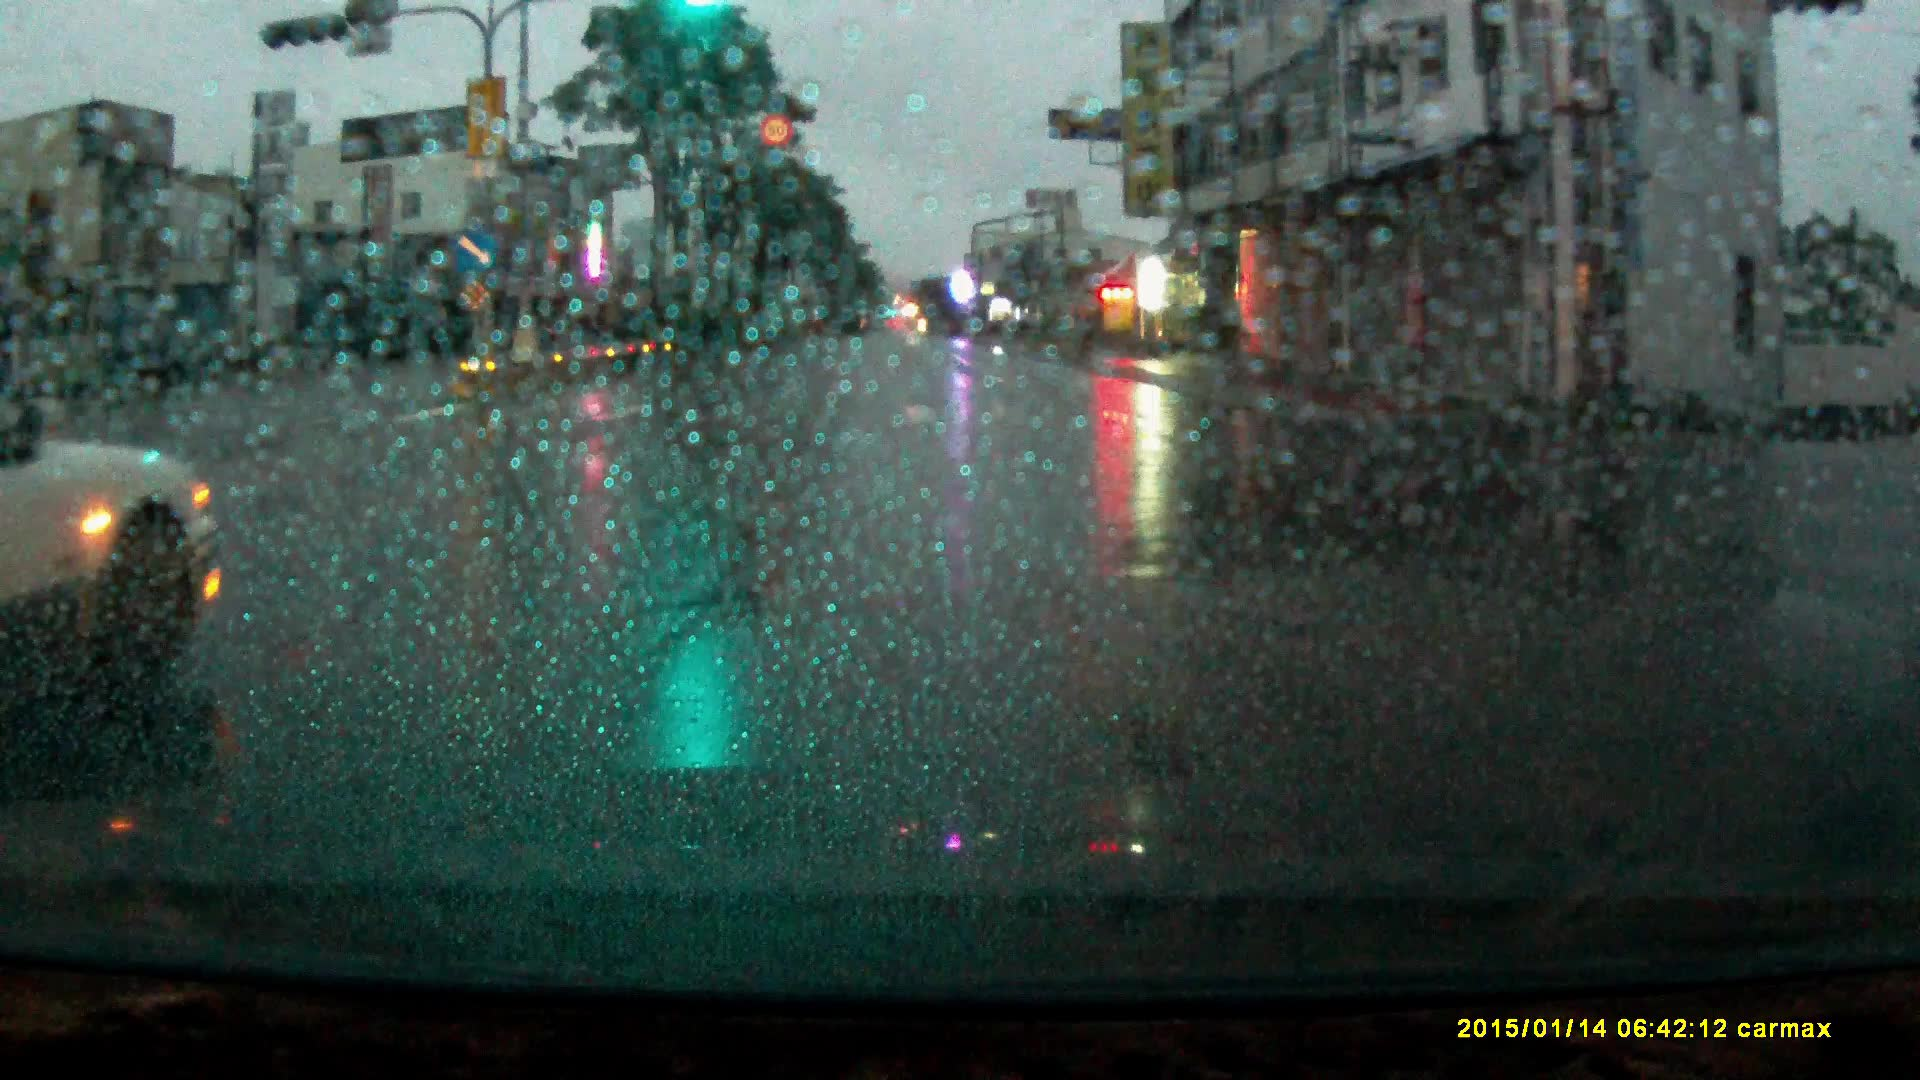vehicle: (1, 380, 222, 705)
